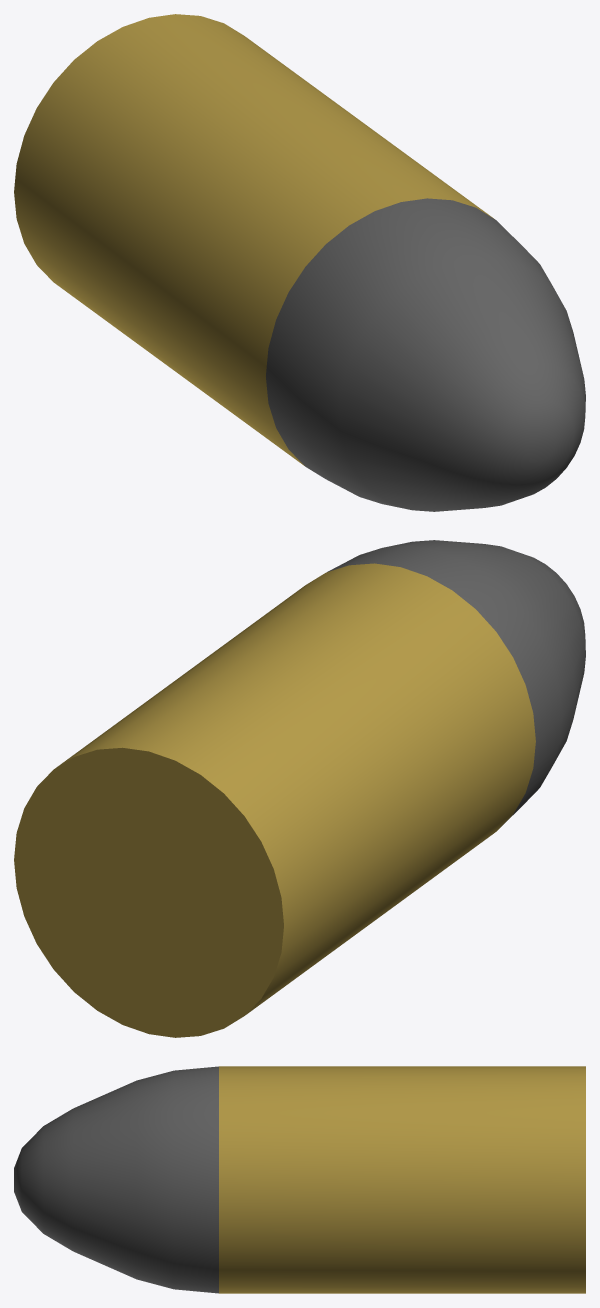
Rendered from Bullet.fbx.
3 views of the same model, one above another, from view 1: azimuth 30°, elevation 25°; view 2: azimuth 150°, elevation 25°; view 3: azimuth 270°, elevation 25° (orthographic). The views are drawn at different scales.
Visible parts, largest first — view 1: Cylinder; view 2: Cylinder; view 3: Cylinder.
Part boxes in pixels (x1,y1,x2,y2): Cylinder: [14, 14, 585, 511]; Cylinder: [14, 540, 585, 1037]; Cylinder: [14, 1066, 585, 1293].
Bounding box in the file's own units: 0.4307 × 0.4307 × 1.08.
